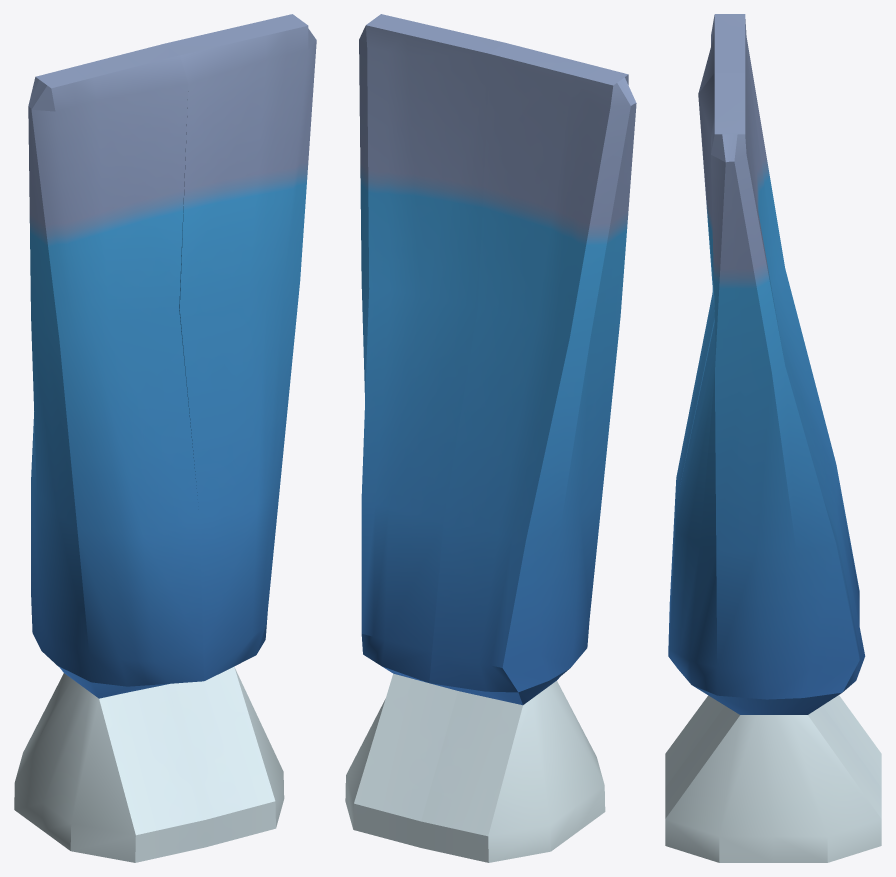
File: toothpaste.fbx
The picture shows the model from 3 angles, left to right: view 1: azimuth 30°, elevation 25°; view 2: azimuth 150°, elevation 25°; view 3: azimuth 270°, elevation 25°; orthographic projection. The views are drawn at different scales.
Visible parts, largest first — view 1: toothpaste; view 2: toothpaste; view 3: toothpaste.
Part boxes in pixels (x1,y1,x2,y2): toothpaste: (14, 14, 316, 862); toothpaste: (345, 14, 636, 862); toothpaste: (665, 14, 881, 862).
Bounding box in the file's own units: 37.9 × 98.15 × 25.96.
